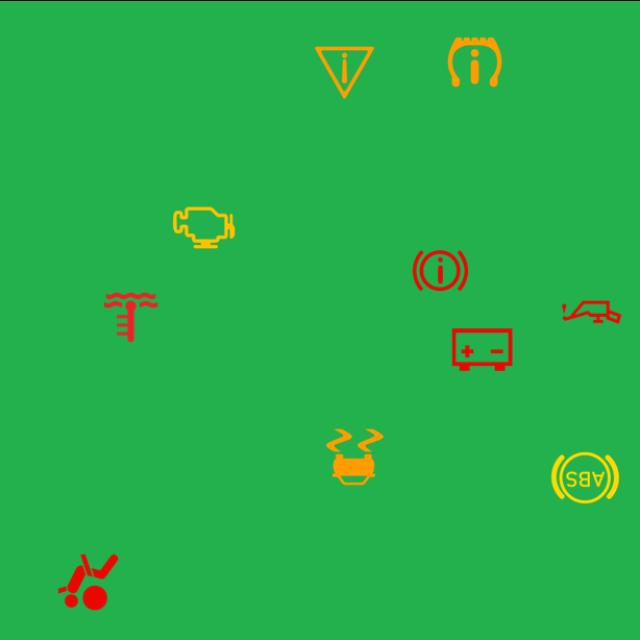Anti Lock Braking System: (548, 440, 622, 514)
Braking System Issue: (403, 232, 478, 306)
Charging System Issue: (445, 312, 519, 386)
Check Engine: (167, 190, 241, 264)
Electronic Stability Problem -ESP-: (318, 419, 392, 493)
Engine Overheating Warning Light: (94, 280, 168, 354)
Low Engine Oil Warning Light: (554, 274, 628, 348)
Low Tire Pressure Warning Light: (438, 24, 512, 98)
Master warning light: (308, 34, 382, 109)
SRS-Airbag: (51, 544, 125, 618)
